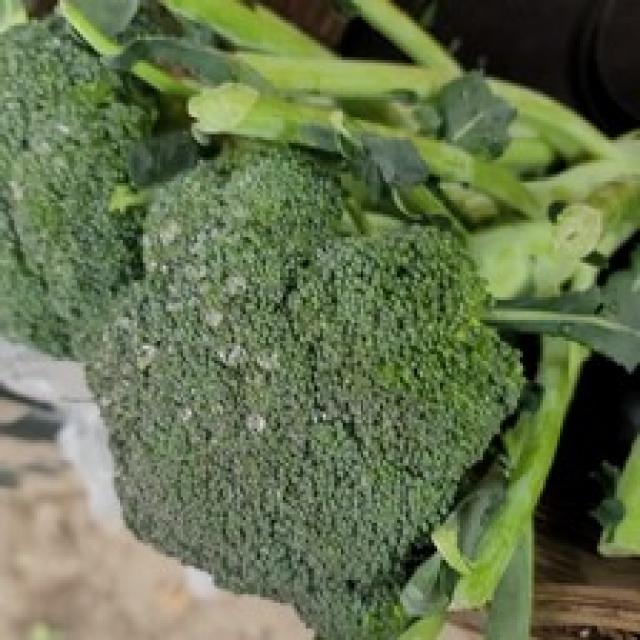Broccoli: (89, 150, 518, 640), (89, 151, 518, 640), (0, 19, 155, 357), (0, 19, 154, 357)
